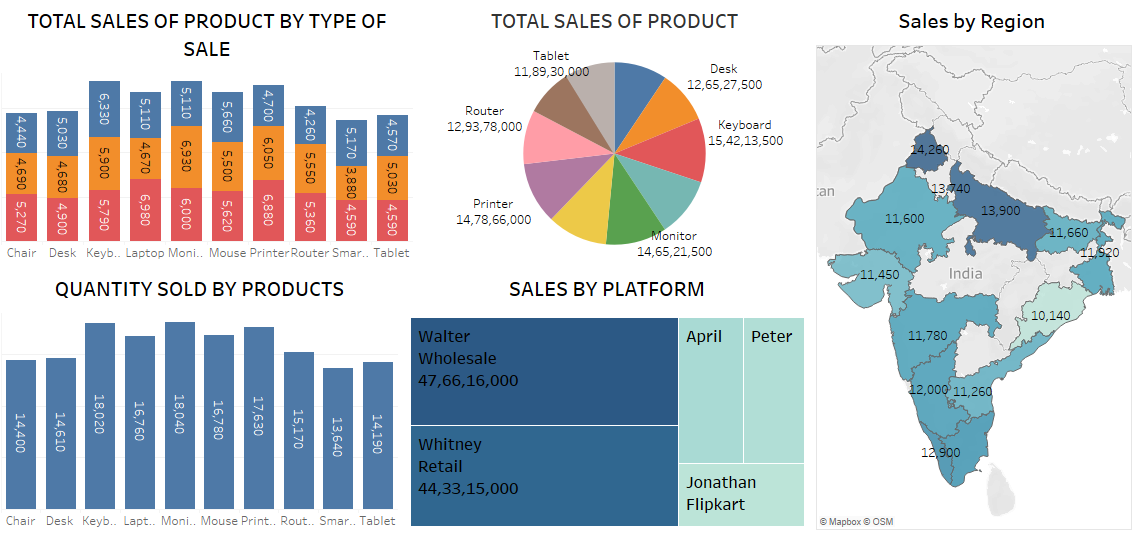

What the dashboard file says about the page in this screenshot:
{"tool":"tableau","page":{"name":"Dashboard 1","canvas":[1000,1000],"units":"permille","ordinal":0},"visuals":[{"type":"worksheet","title":"Sheet 1","mark":"Automatic","rows":["Quantity Sold"],"cols":["Product"],"box":[6.8,14.5,354.1,485.5]},{"type":"worksheet","title":"Sheet 3","mark":"Pie","box":[360.9,14.5,333.1,485.5]},{"type":"worksheet","title":"Sheet 2","mark":"Automatic","box":[693.9,14.5,299.3,971]},{"type":"worksheet","title":"Sheet 4","mark":"Automatic","rows":["Quantity Sold"],"cols":["Product"],"box":[6.8,500,341.5,485.5]},{"type":"worksheet","title":"Sheet 5","mark":"Automatic","box":[348.2,500,345.7,485.5]}]}

Visuals, with their boxes on the dashboard's canvas, which has no fixed pixel size, in thousandths of its width and height (x1, y1, x2, y2). These are canvas units, not pixel positions in the 1137x534 screenshot, which may show the page scaled, cropped or inside an application window:
"Sheet 1" worksheet: 7/14/361/500
"Sheet 3" worksheet (Pie marks): 361/14/694/500
"Sheet 2" worksheet: 694/14/993/986
"Sheet 4" worksheet: 7/500/348/986
"Sheet 5" worksheet: 348/500/694/986
